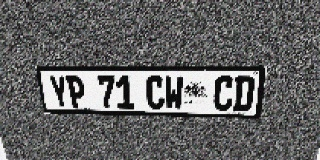1: (115, 76, 134, 109)
7: (96, 76, 117, 109)
C: (213, 76, 235, 111), (146, 76, 165, 110)
D: (232, 76, 255, 111)
P: (65, 75, 87, 108)
W: (165, 76, 183, 110)
Y: (48, 75, 70, 108)
